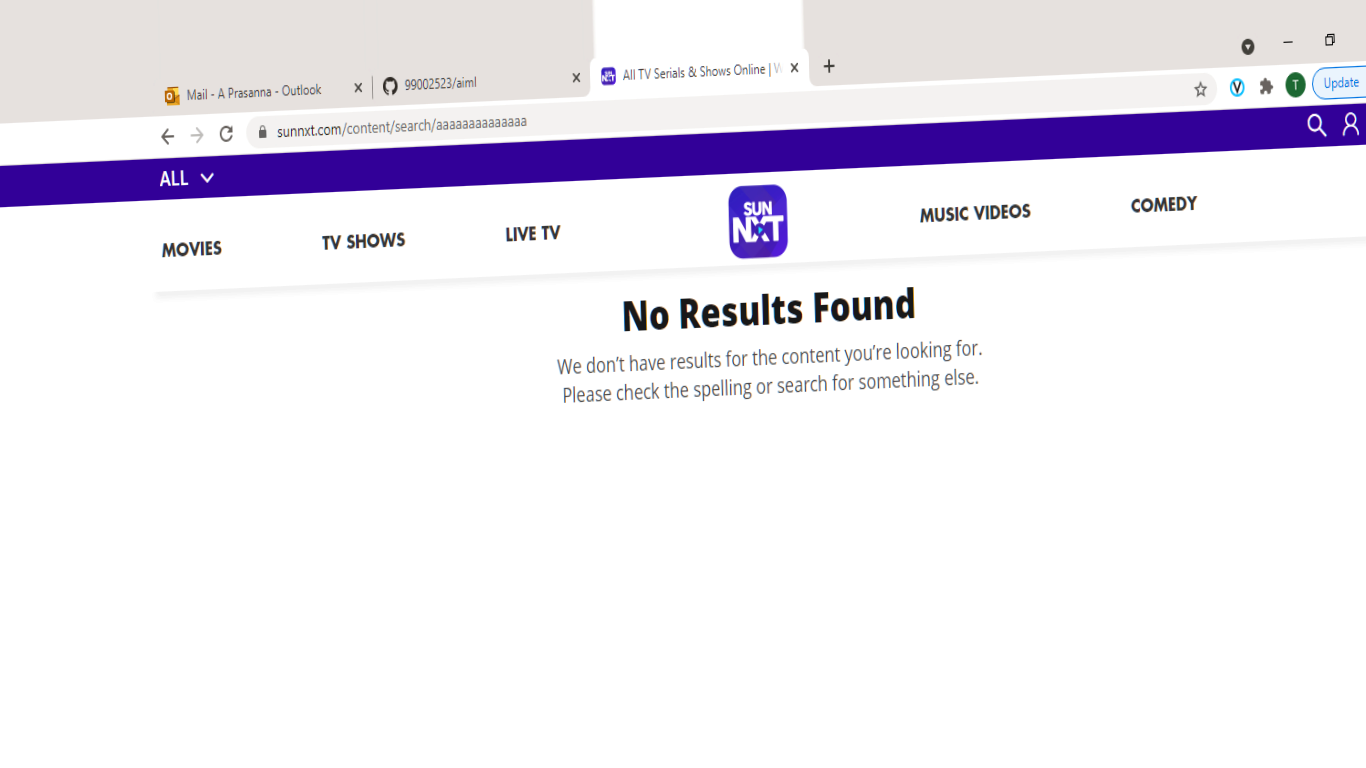noresultsfound: (533, 278, 1003, 420)
profileicon: (1336, 109, 1360, 143)
searchicon: (1293, 105, 1332, 145)
